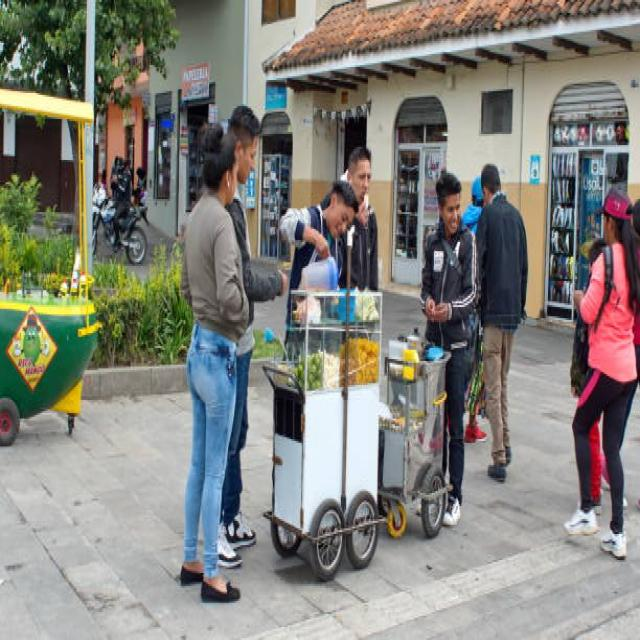Emperan: (243, 242, 467, 586)
